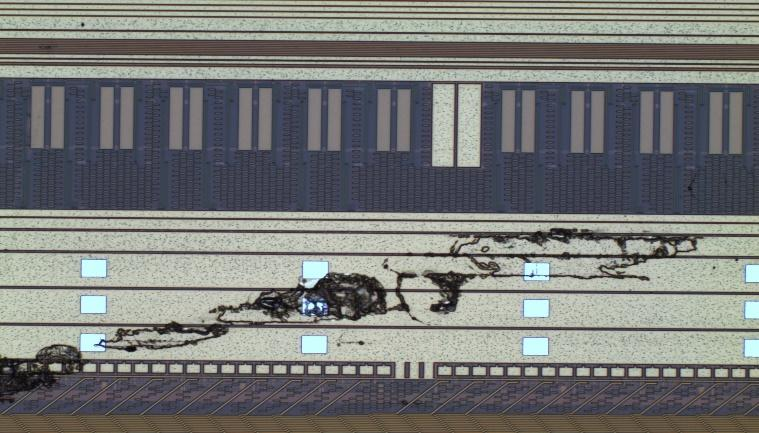SCRATCH: (1, 226, 745, 409)
